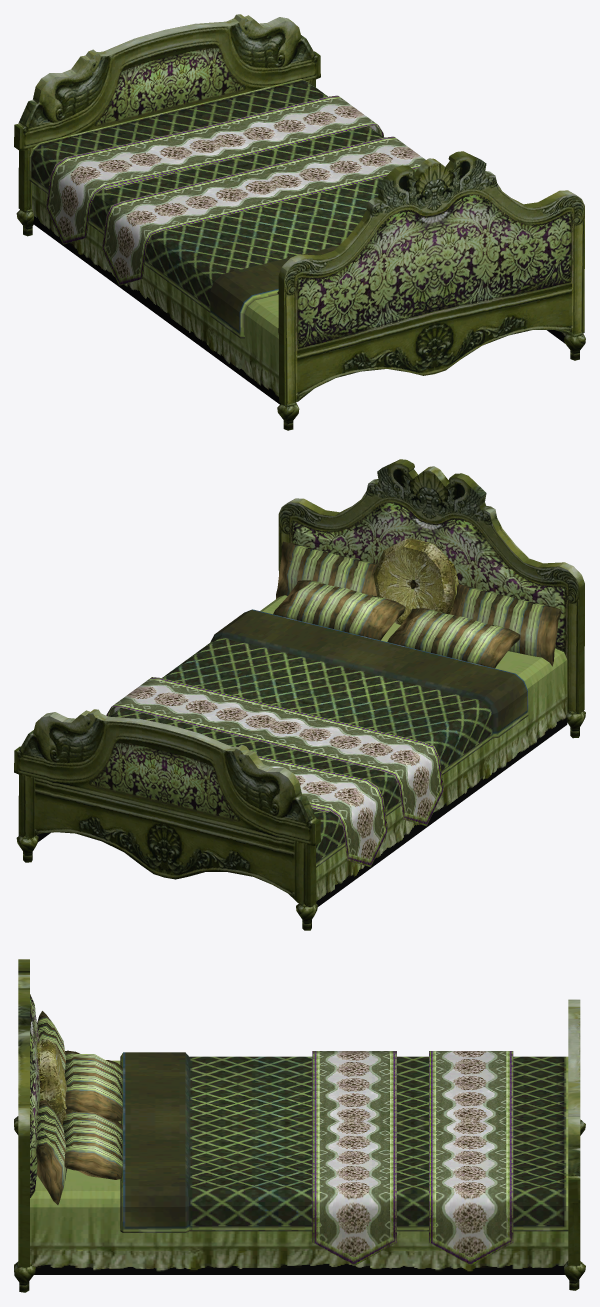
File: furni_0201204_03.FBX
3 views of the same model, one above another, from view 1: azimuth 30°, elevation 25°; view 2: azimuth 150°, elevation 25°; view 3: azimuth 270°, elevation 25° (orthographic). The views are drawn at different scales.
Parts seen in each view (by area): view 1: furni_0201204_03; view 2: furni_0201204_03; view 3: furni_0201204_03.
Part boxes in pixels (left/top/right/bottom): furni_0201204_03: left=14, top=14, right=585, bottom=430; furni_0201204_03: left=14, top=459, right=585, bottom=930; furni_0201204_03: left=14, top=959, right=585, bottom=1292.
Bounding box in the file's own units: 164 × 119 × 253.
